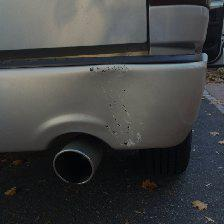bumper_dent: (68, 49, 152, 164)
